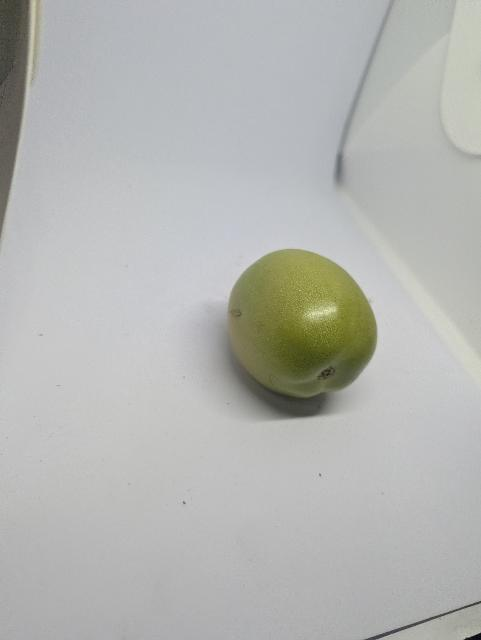green: (210, 232, 415, 410)
